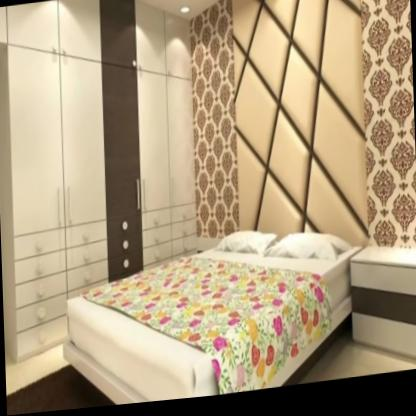Bed: (52, 215, 378, 412)
Closet: (0, 34, 114, 354)
Nightstand: (349, 248, 416, 377)
Wall Panel: (222, 0, 373, 272)
